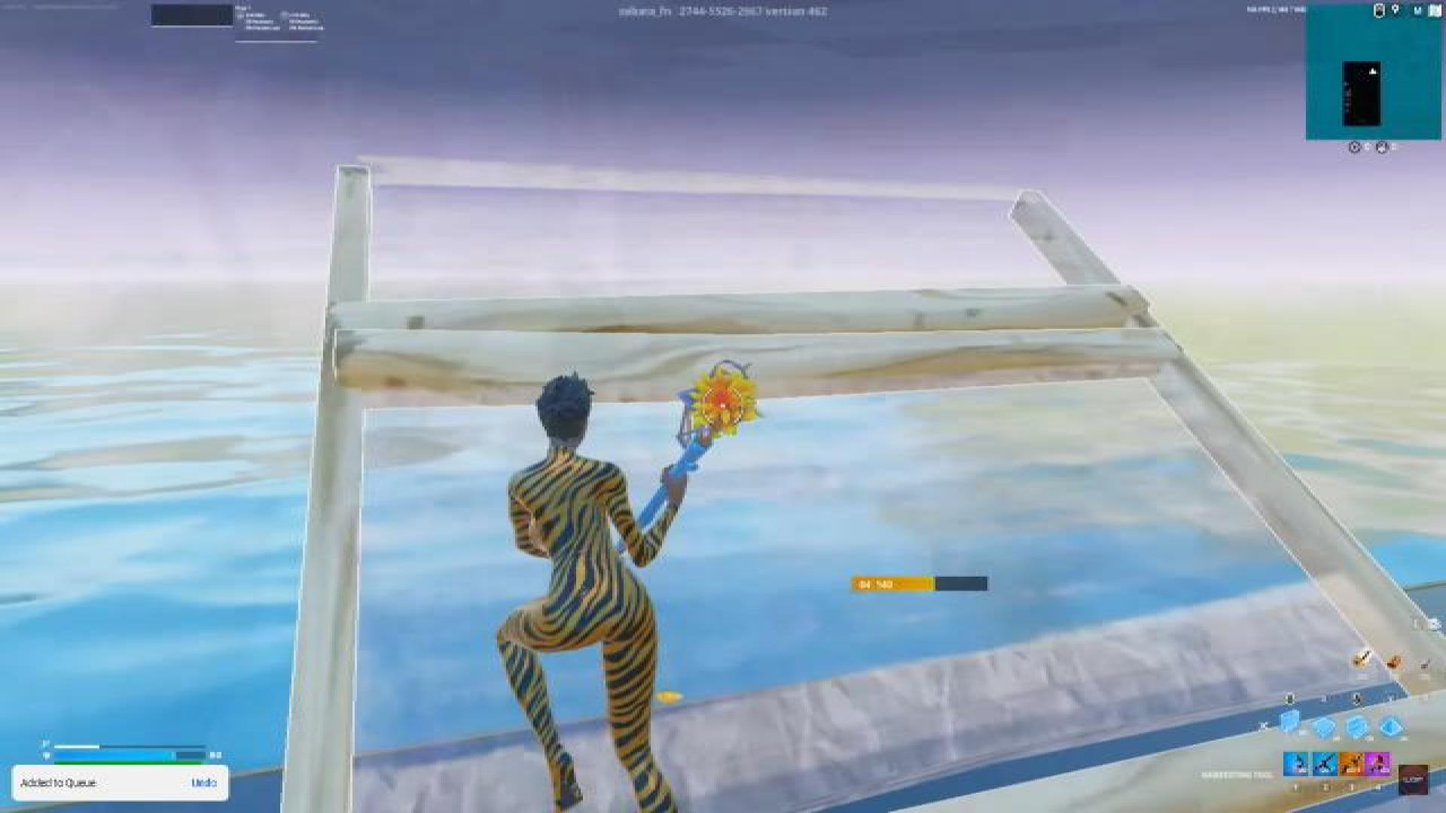player: (485, 379, 740, 812)
